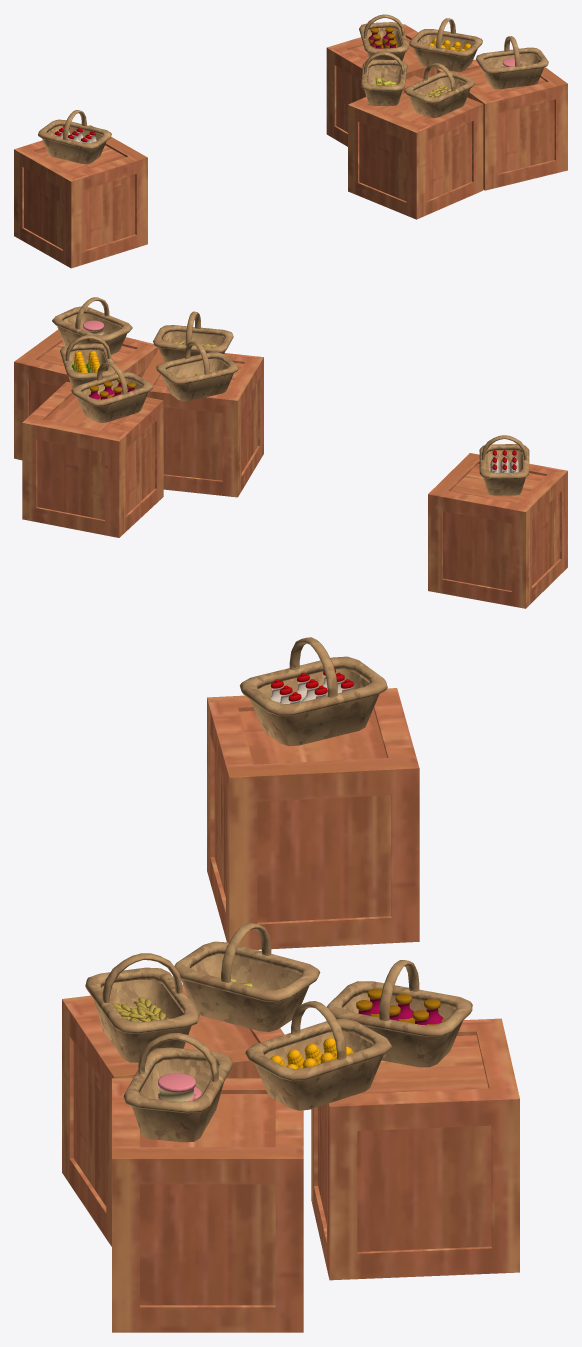
File: supplines.fbx
3 views of the same model, one above another, from view 1: azimuth 30°, elevation 25°; view 2: azimuth 150°, elevation 25°; view 3: azimuth 270°, elevation 25° (orthographic). The views are drawn at different scales.
Parts seen in each view (by area): view 1: supplines.001; view 2: supplines.001; view 3: supplines.001.
Boxes of the visible parts, <box> form: supplines.001: <box>14,14,567,268</box>; supplines.001: <box>14,297,567,608</box>; supplines.001: <box>62,637,519,1332</box>.
Size of the model in its own units: 524 by 135 by 215.
1 material, 1 textured.
